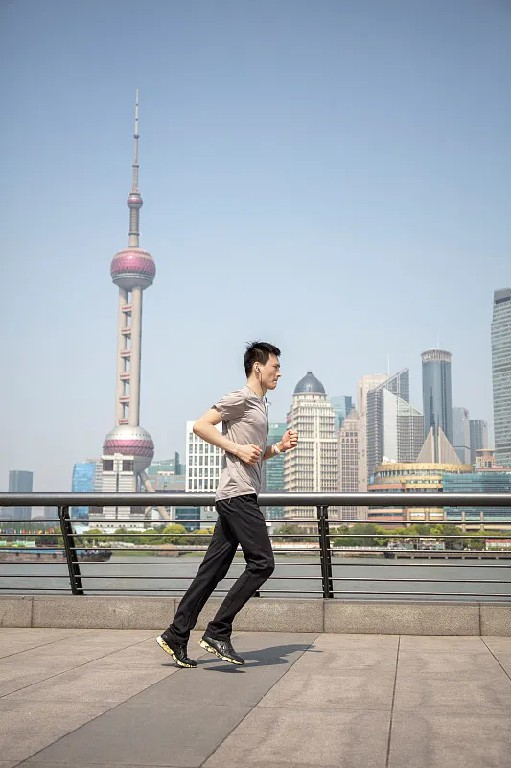Oriental: (102, 88, 155, 491)
